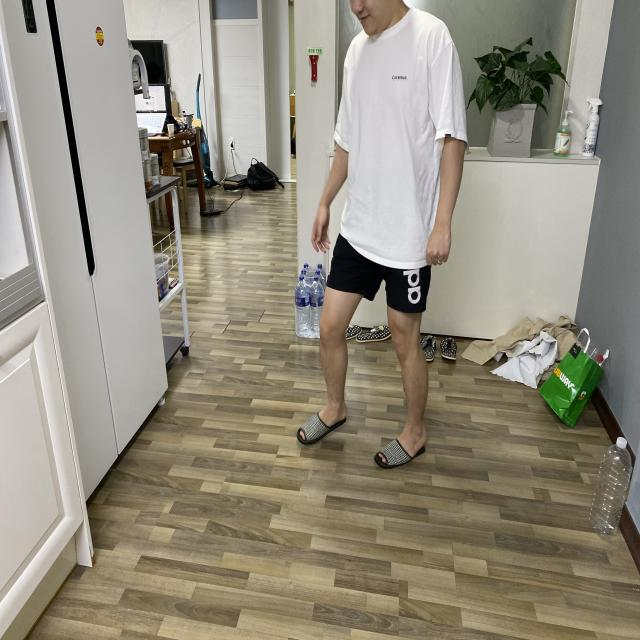no-boots: (277, 395, 352, 453), (373, 415, 440, 479)
